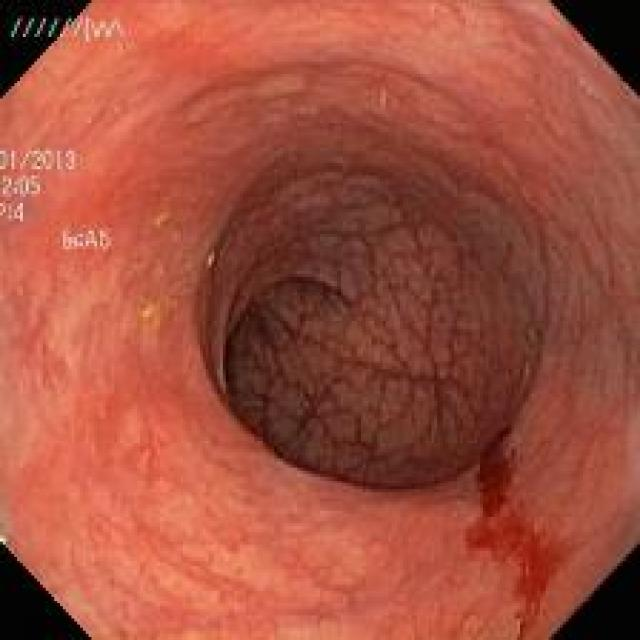ulcerative-colitis-grade-1: (1, 3, 602, 639)
